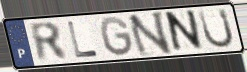G: (98, 15, 136, 58)
L: (65, 20, 100, 59)
N: (126, 9, 174, 58), (166, 8, 206, 55)
R: (27, 21, 71, 64)
U: (196, 7, 236, 50)
